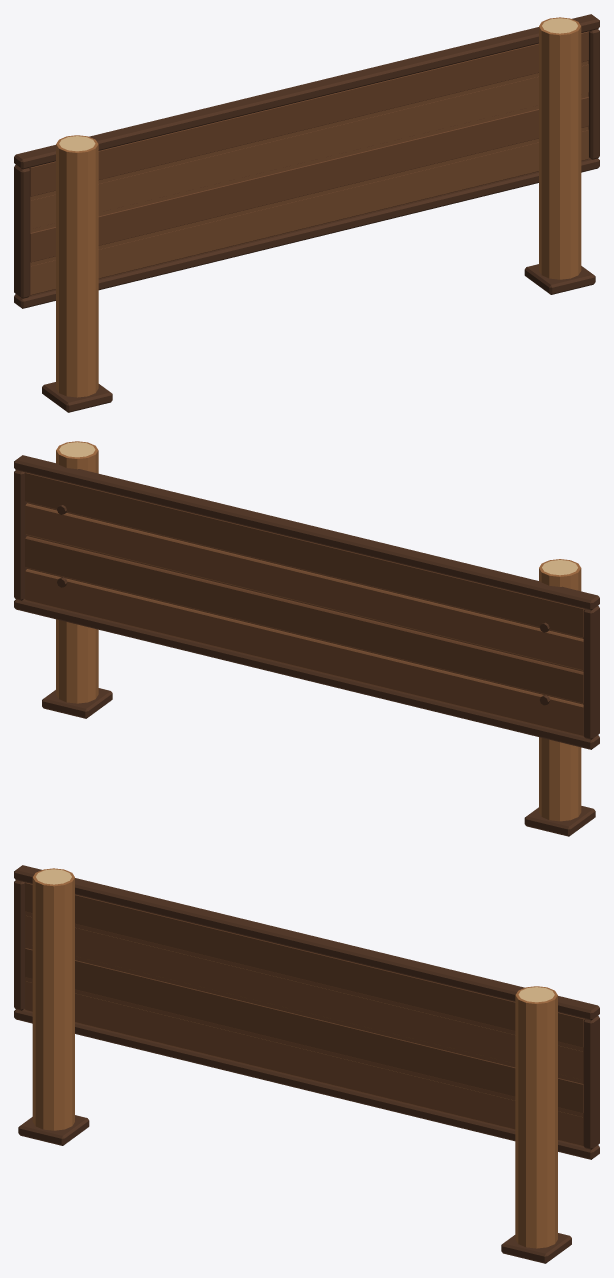
The model's file is start_sign.glb.
The picture shows the model from 3 angles, top to bottom: view 1: azimuth 30°, elevation 25°; view 2: azimuth 150°, elevation 25°; view 3: azimuth 330°, elevation 25°; orthographic projection.
Parts seen in each view (by area): view 1: WoodPlanks__7A4E30, WoodPlanks__6C442A, Wood__A86E40, Wood__523422, Wood__DEBC8C; view 2: WoodPlanks__7A4E30, WoodPlanks__6C442A, Wood__523422, Wood__A86E40, Wood__DEBC8C; view 3: WoodPlanks__7A4E30, WoodPlanks__6C442A, Wood__A86E40, Wood__523422, Wood__DEBC8C.
Part boxes in pixels (box(x1,y1,x2,y2)): WoodPlanks__7A4E30: box(30, 60, 588, 295); WoodPlanks__6C442A: box(29, 31, 588, 262); Wood__A86E40: box(56, 17, 581, 397); Wood__523422: box(14, 14, 599, 412); Wood__DEBC8C: box(59, 18, 577, 151); WoodPlanks__7A4E30: box(25, 502, 583, 736); WoodPlanks__6C442A: box(25, 472, 585, 703); Wood__523422: box(14, 455, 599, 836); Wood__A86E40: box(56, 441, 581, 821); Wood__DEBC8C: box(59, 442, 577, 575); WoodPlanks__7A4E30: box(25, 911, 583, 1146); WoodPlanks__6C442A: box(25, 882, 584, 1113); Wood__A86E40: box(32, 868, 557, 1248); Wood__523422: box(14, 865, 599, 1263); Wood__DEBC8C: box(36, 869, 554, 1002).
Bounding box in the file's own units: 30 × 12.62 × 2.65.
